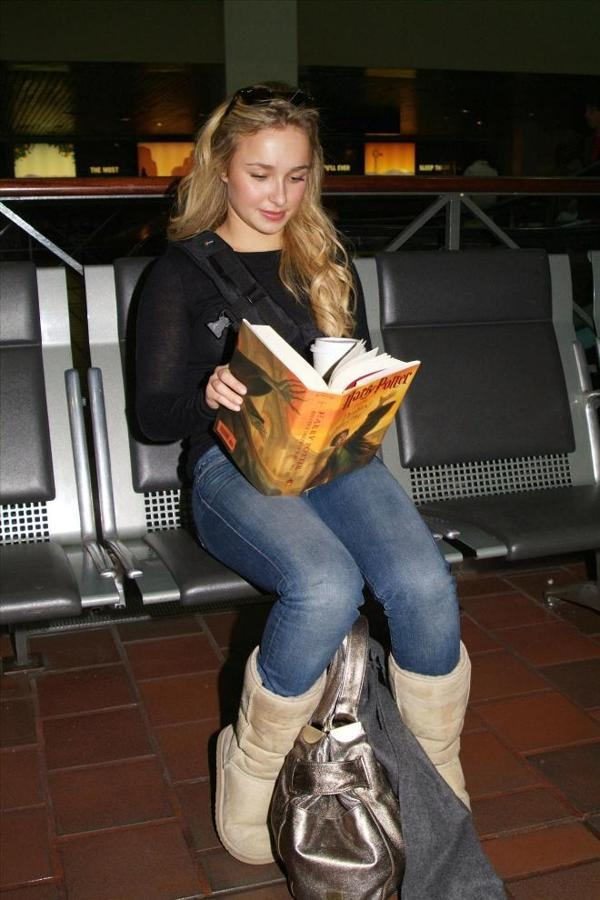person: (127, 86, 474, 867)
